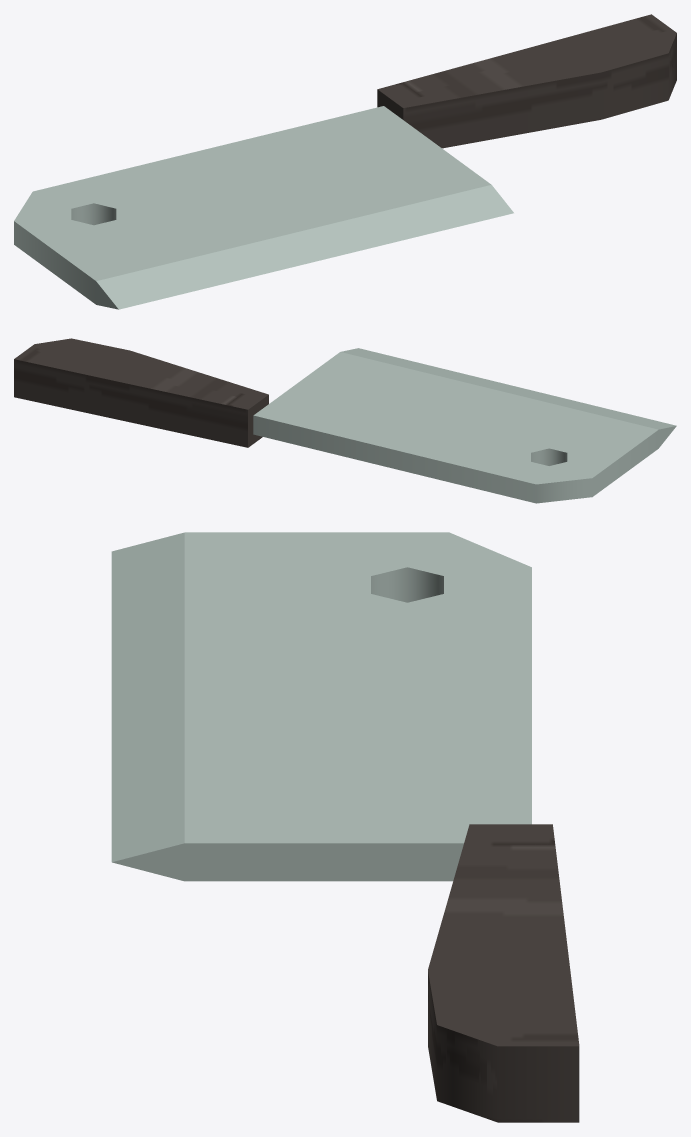
The model's file is cooking-knife-chopping.gltf.
3 renders of one model, top to bottom at view 1: azimuth 30°, elevation 25°; view 2: azimuth 150°, elevation 25°; view 3: azimuth 270°, elevation 25°, orthographic. The views are drawn at different scales.
Visible parts, largest first — view 1: cooking-knife-chopping; view 2: cooking-knife-chopping; view 3: cooking-knife-chopping.
Boxes of the visible parts, box(x1,y1,x2,y2) form: cooking-knife-chopping: box(14, 14, 676, 309); cooking-knife-chopping: box(14, 338, 676, 503); cooking-knife-chopping: box(111, 532, 579, 1122).
Size of the model in its own units: 0.6 by 0.04 by 0.2227.
Materials: 2 (1 with a texture image).
